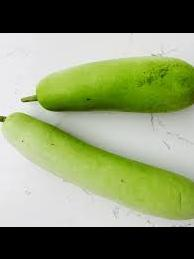bottle gourd: (0, 110, 193, 220), (20, 53, 193, 113)
